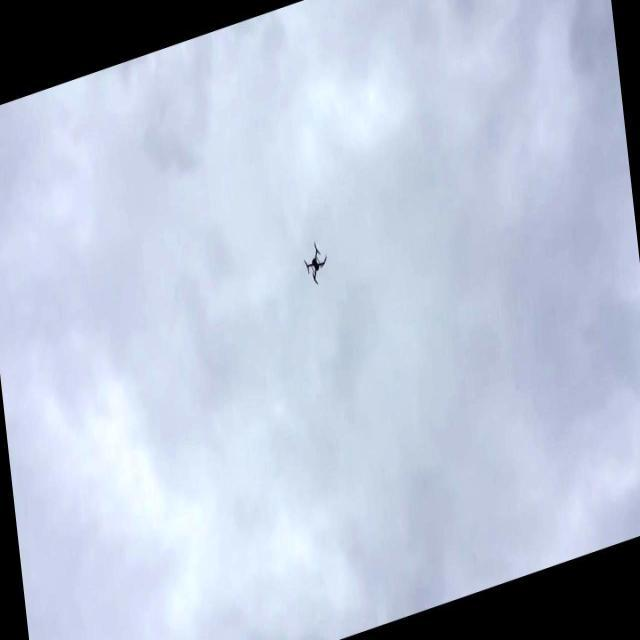drone: (300, 233, 332, 292)
